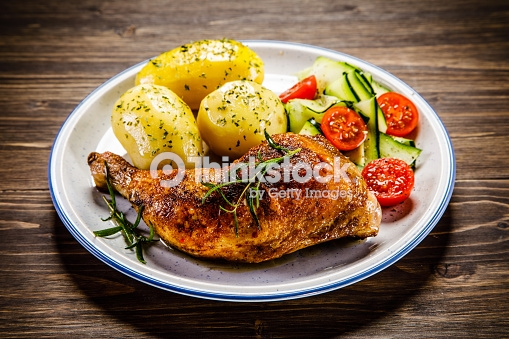boiled potatoes: (114, 51, 268, 142)
